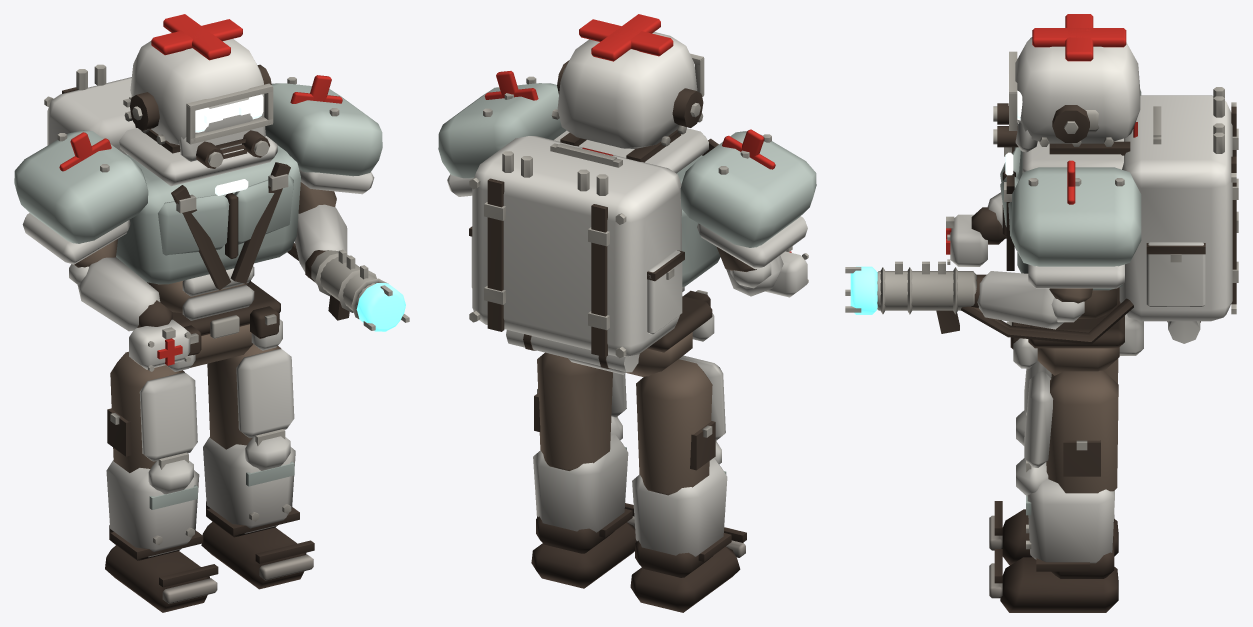
The model's file is medic.glb.
3 views of the same model, side by side, from view 1: azimuth 30°, elevation 25°; view 2: azimuth 150°, elevation 25°; view 3: azimuth 270°, elevation 25° (orthographic). The views are drawn at different scales.
Parts seen in each view (by area): view 1: Chest, Armor, Shin.001, Shin, Gear, Steel, Helmet, Pack, Cross, Suit, Boot, Boot.001 (+12 smaller); view 2: Pack, Chest, Helmet, Gear, Leg_suit, Shin, Leg_suit.001, Shin.001, Armor, Boot, Steel, Boot.001 (+4 smaller); view 3: Pack, Chest, Gear, Armor, Helmet, Shin.001, Steel, Leg_suit.001, Boot.001, Cross, Suit, Boot (+4 smaller).
Boxes of the visible parts, bbox=[...] form: Chest: bbox=[14, 83, 382, 284]; Armor: bbox=[22, 117, 374, 371]; Shin.001: bbox=[203, 348, 295, 533]; Shin: bbox=[106, 372, 199, 557]; Gear: bbox=[62, 64, 349, 355]; Steel: bbox=[44, 64, 409, 371]; Helmet: bbox=[130, 39, 264, 144]; Pack: bbox=[47, 77, 190, 369]; Cross: bbox=[59, 14, 342, 365]; Suit: bbox=[74, 182, 336, 367]; Boot: bbox=[105, 525, 209, 612]; Boot.001: bbox=[201, 501, 306, 589]; Pack: bbox=[471, 136, 807, 372]; Chest: bbox=[438, 83, 816, 286]; Helmet: bbox=[557, 32, 697, 148]; Gear: bbox=[469, 60, 718, 368]; Leg_suit: bbox=[636, 359, 712, 495]; Shin: bbox=[632, 355, 727, 556]; Leg_suit.001: bbox=[537, 352, 612, 470]; Shin.001: bbox=[533, 372, 628, 532]; Armor: bbox=[447, 128, 807, 374]; Boot: bbox=[630, 540, 740, 612]; Steel: bbox=[469, 53, 808, 358]; Boot.001: bbox=[531, 516, 635, 588]; Pack: bbox=[950, 95, 1232, 343]; Chest: bbox=[1000, 90, 1141, 290]; Gear: bbox=[936, 103, 1236, 349]; Armor: bbox=[977, 122, 1143, 368]; Helmet: bbox=[1015, 37, 1140, 143]; Shin.001: bbox=[1016, 371, 1114, 563]; Steel: bbox=[845, 51, 1238, 325]; Leg_suit.001: bbox=[1046, 370, 1118, 493]; Boot.001: bbox=[1000, 537, 1118, 612]; Cross: bbox=[946, 14, 1137, 254]; Suit: bbox=[1037, 288, 1119, 375]; Boot: bbox=[1002, 509, 1118, 565].
Bounding box in the file's own units: 1.42 × 2.24 × 1.46.
